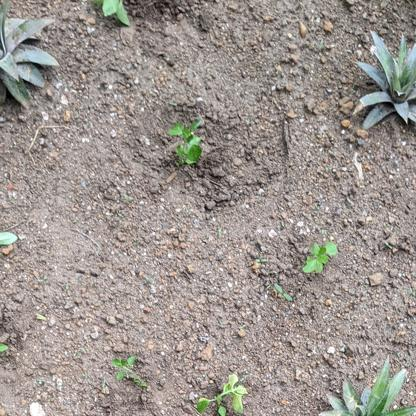pineapple: (1, 3, 60, 111), (355, 29, 416, 132), (313, 356, 414, 416)
weed: (197, 372, 247, 416), (165, 119, 208, 169), (299, 241, 341, 275), (107, 352, 143, 382)
